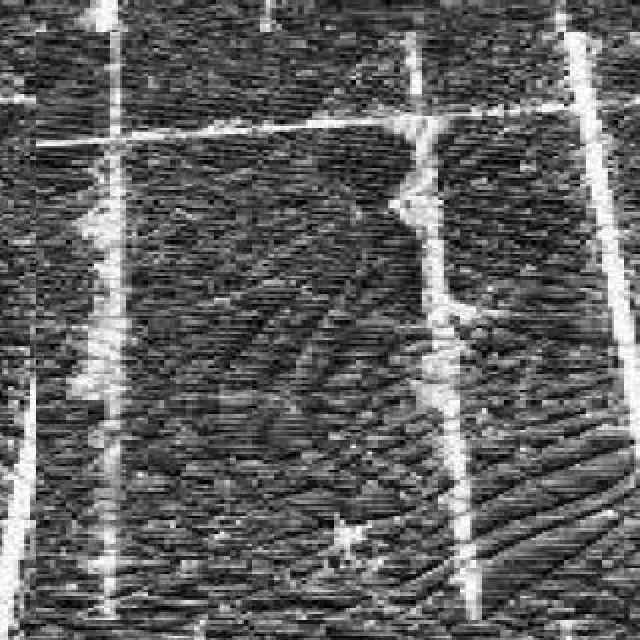Physical-damage: (36, 32, 640, 620)
